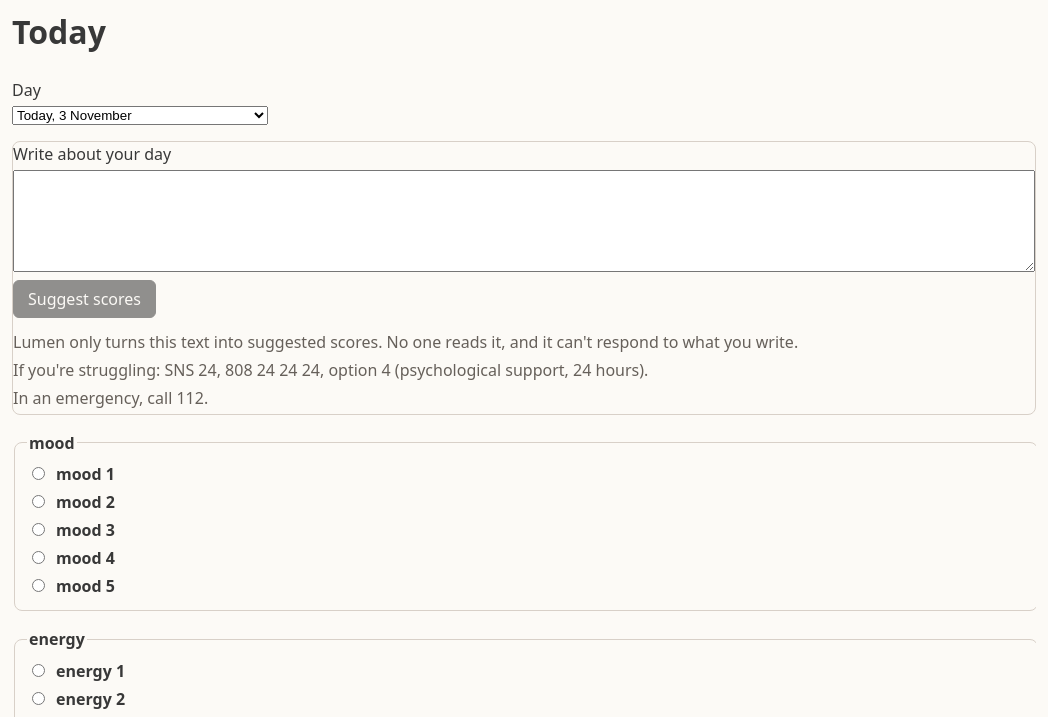
Test: free text › AC-11: fills blank fields and tags, marks them as suggested, and saves nothing
Type "marker_note slept badly, stressful meeting" into the text box labelled "Write about your day" at (524, 221), box 13,170 -> 1035,272
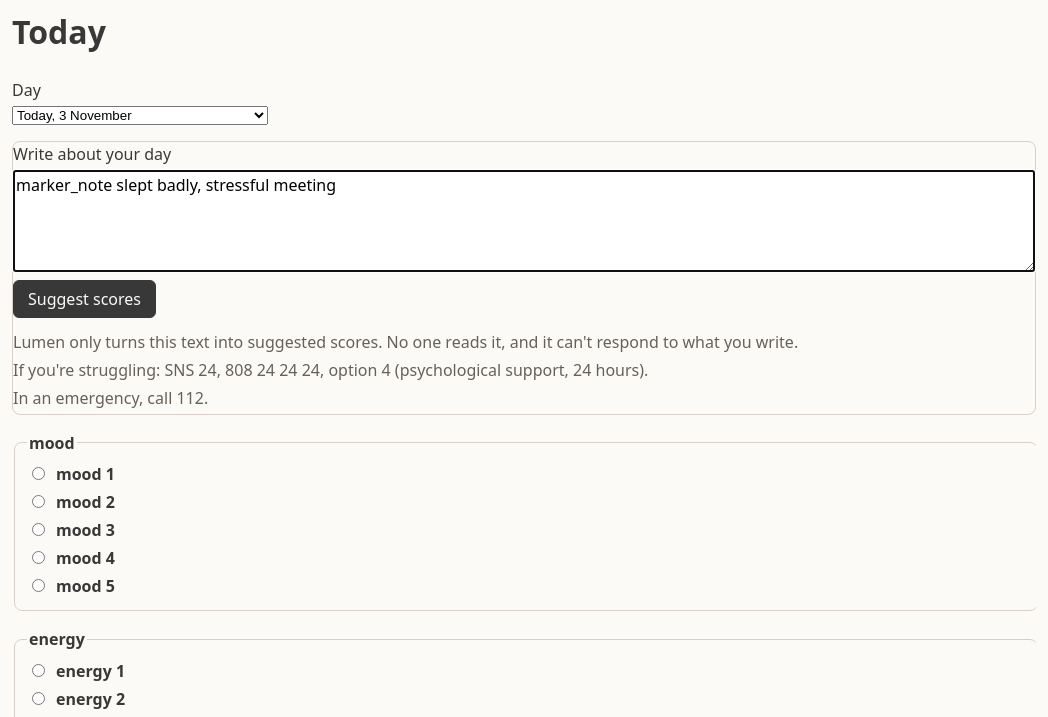
Click the button "Suggest scores" at (84, 299), box 13,280 -> 156,318
(page scrolled)
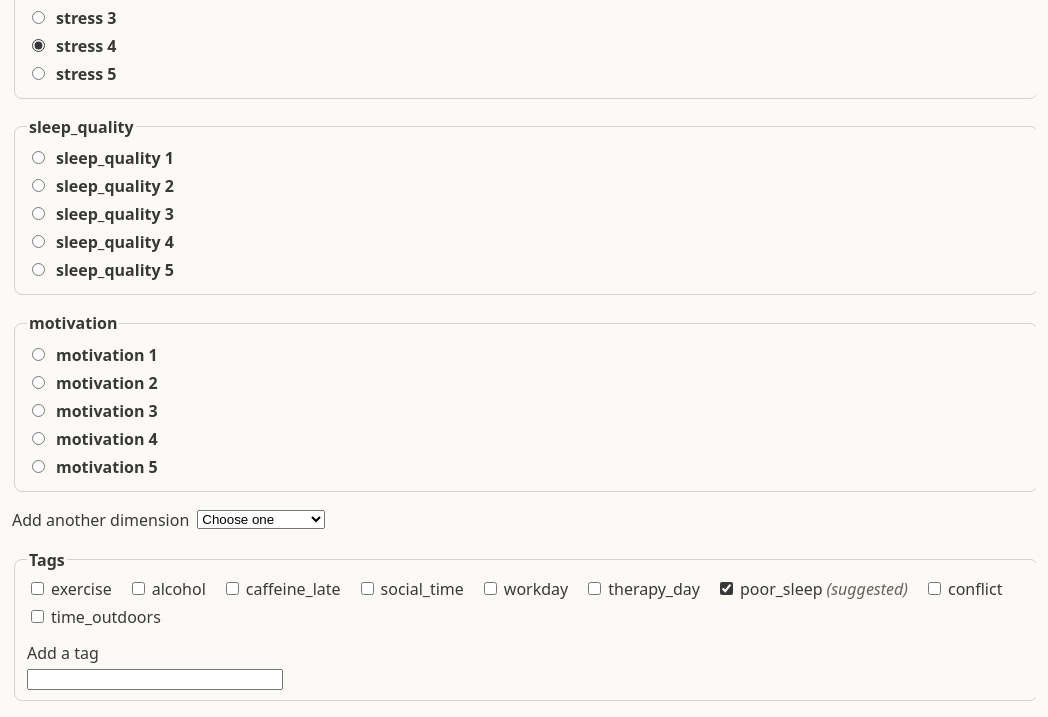
Result: the checkbox labelled "poor_sleep (suggested)" is checked at 720,582 -> 733,595
Result: the text "(suggested)" is shown at 826,577 -> 908,601
